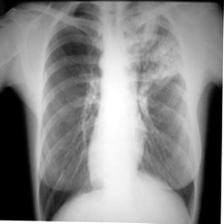tuberculosis: (31, 0, 202, 224)
